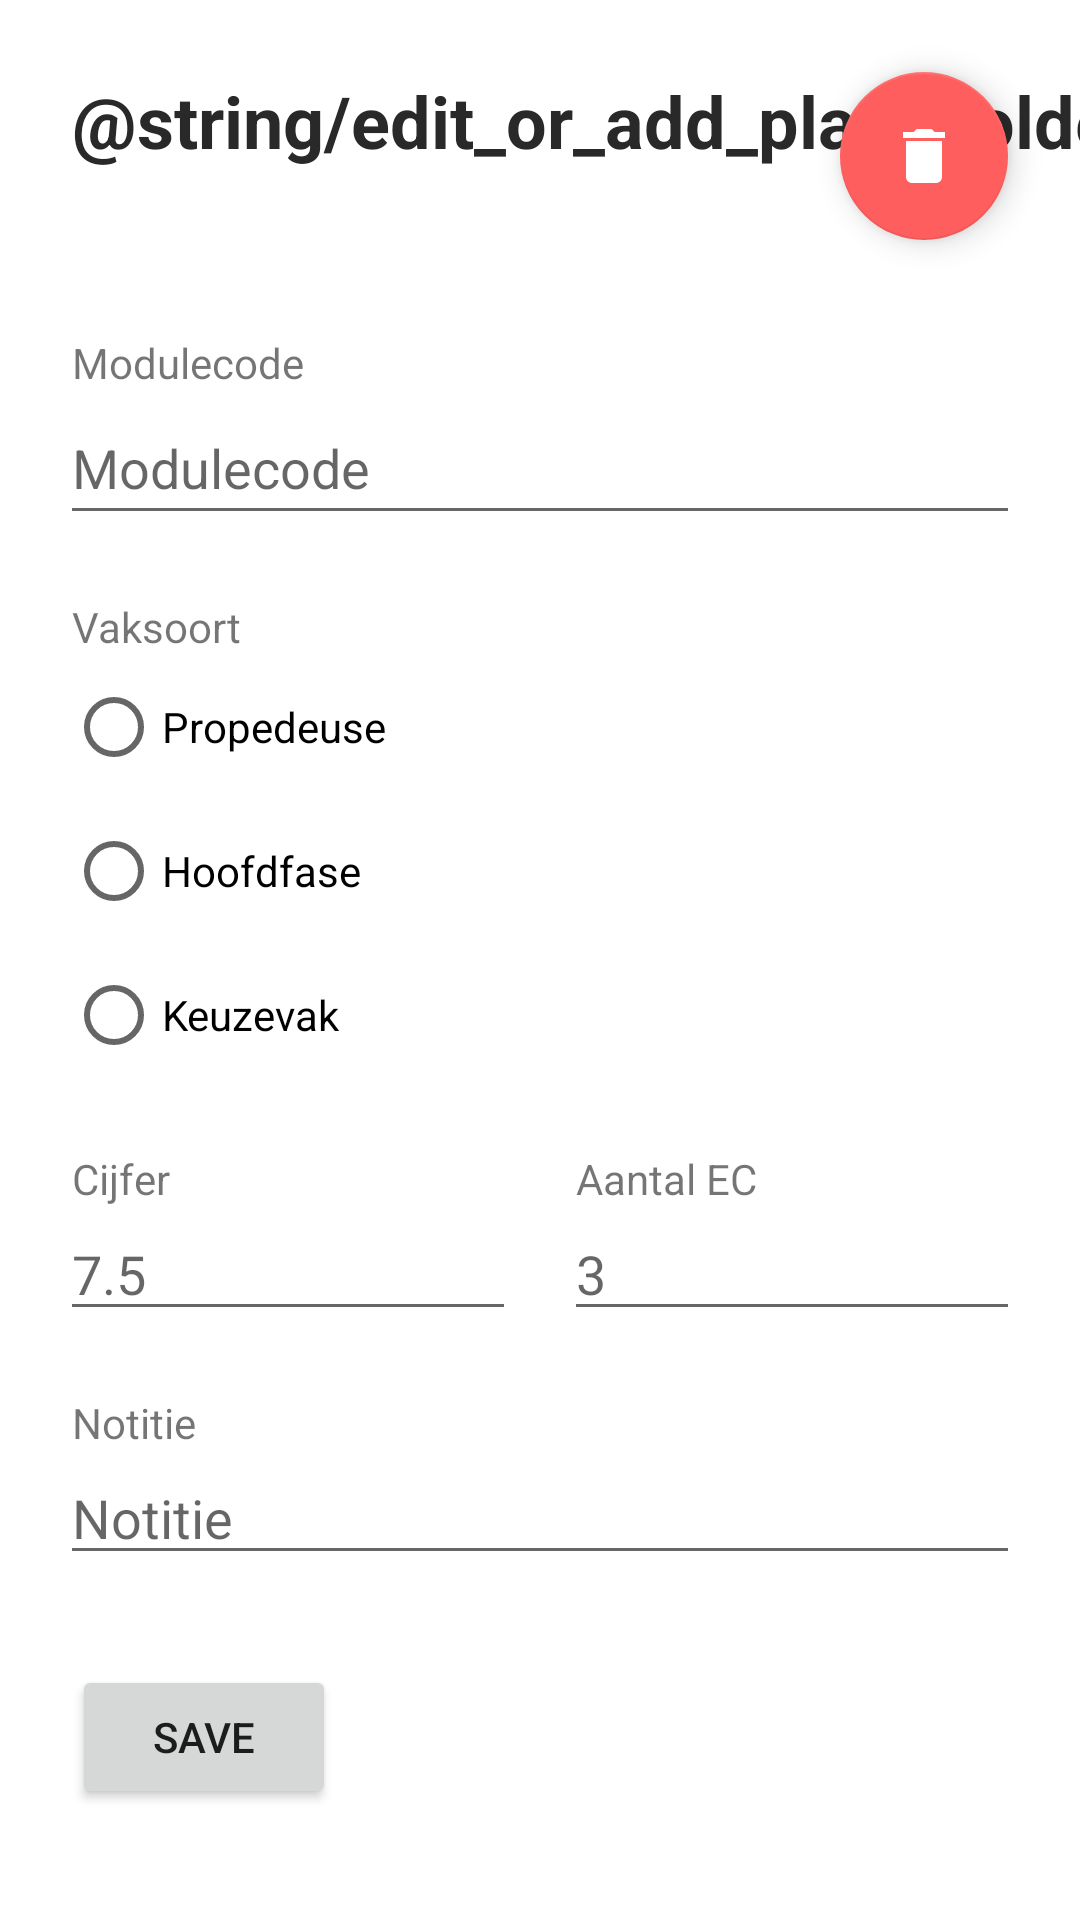

Screen size 1080 × 1920. Icon name, then its box in pixels as bbox=[x1, y1, x2, y2]:
delete: bbox=[840, 72, 1008, 240]
